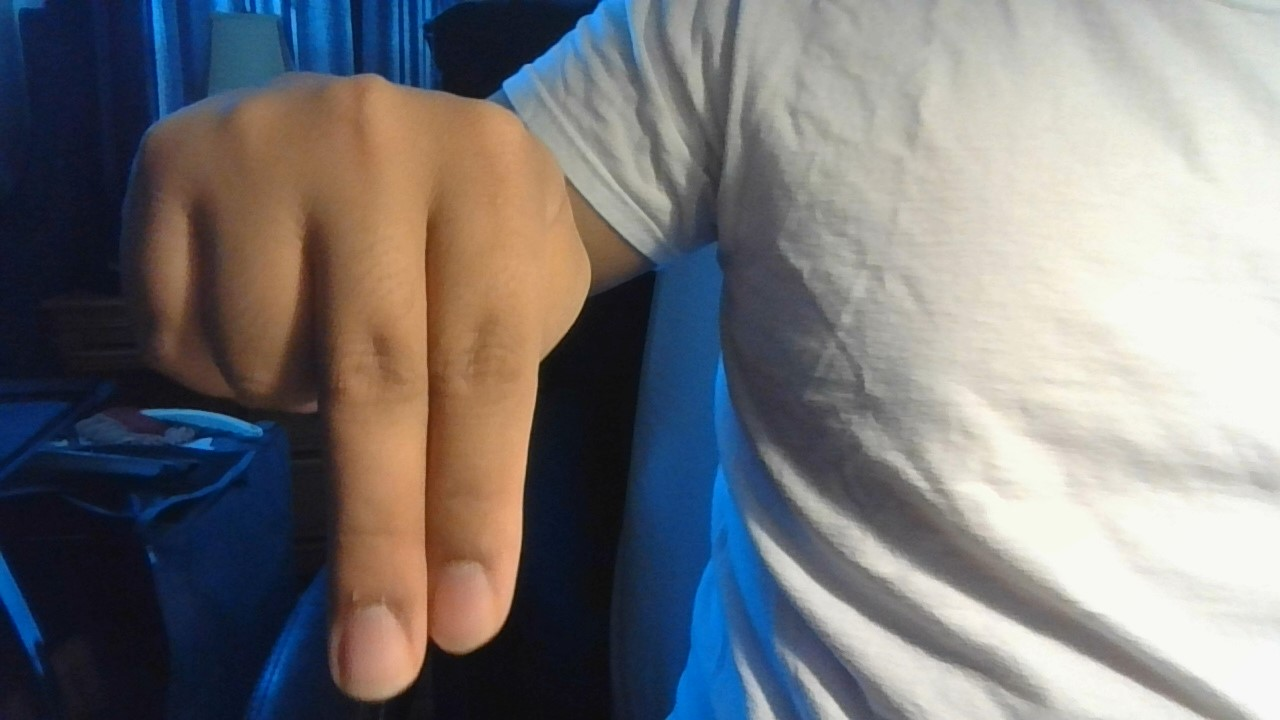n: (87, 58, 610, 714)
